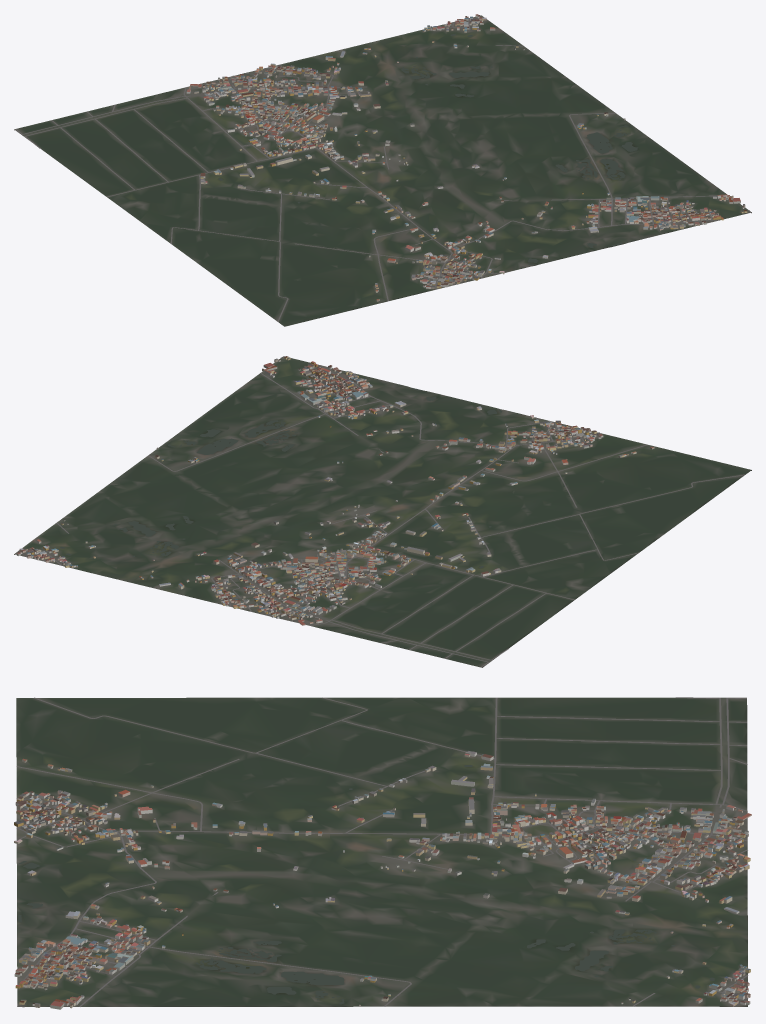
3 views of the same model, one above another, from view 1: azimuth 30°, elevation 25°; view 2: azimuth 150°, elevation 25°; view 3: azimuth 270°, elevation 25° (orthographic). The views are drawn at different scales.
Parts seen in each view (by area): view 1: ground, buildings, roads, water; view 2: ground, buildings, roads, water; view 3: ground, buildings, roads, water.
Boxes of the visible parts, x1,y1,x2,y2 form: ground: (14, 15, 751, 326); buildings: (186, 14, 747, 301); roads: (15, 18, 750, 321); water: (218, 34, 638, 265); ground: (14, 356, 751, 667); buildings: (16, 356, 654, 625); roads: (18, 356, 745, 667); water: (60, 388, 502, 578); ground: (16, 697, 747, 1006); buildings: (14, 751, 751, 1009); roads: (16, 697, 748, 1007); water: (17, 765, 714, 1004).
Bounding box in the file's own units: 1417 × 14.45 × 1416.
